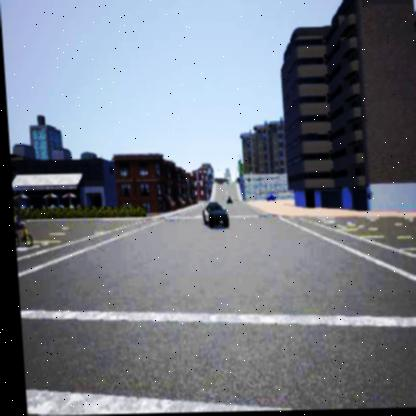bike: (11, 207, 32, 250)
vehicle: (199, 202, 225, 229)
